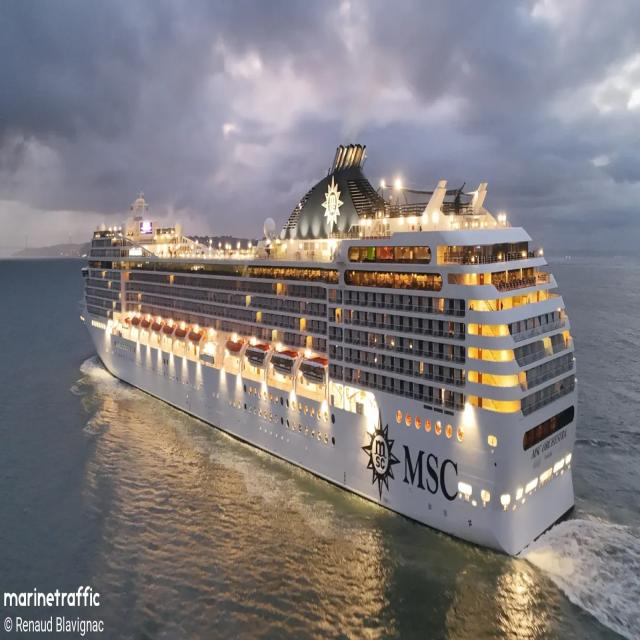Cruise: (82, 145, 577, 555)
